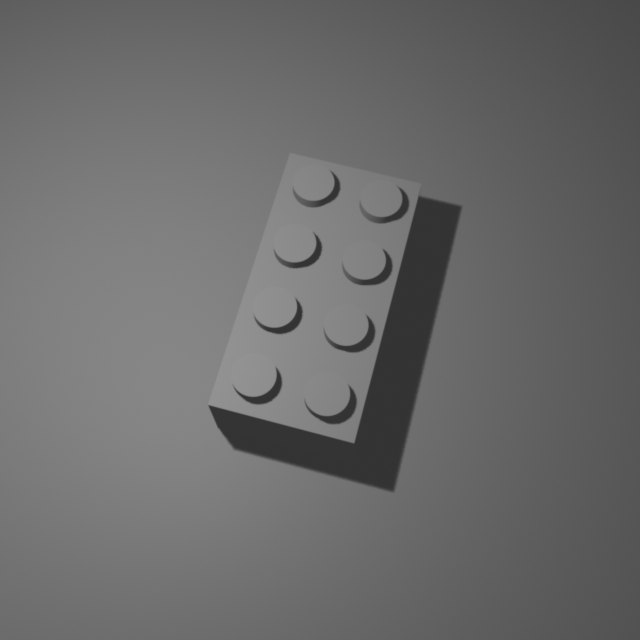lego_2x4: (206, 146, 423, 463)
